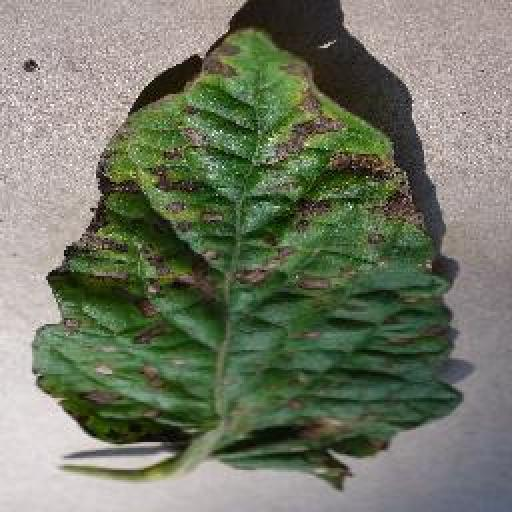disease_tomato: (36, 26, 462, 486)
